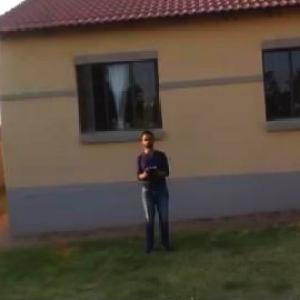follow: (134, 124, 179, 259)
